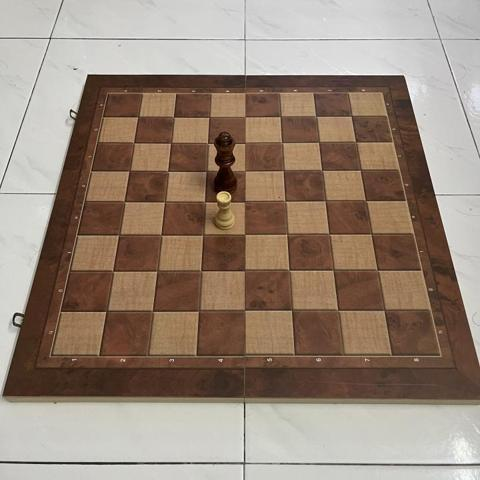xcorner: (314, 163, 331, 180), (344, 109, 361, 125), (309, 109, 325, 126), (201, 110, 218, 126), (312, 135, 328, 152), (274, 136, 291, 152), (277, 194, 294, 210), (197, 194, 213, 211), (156, 195, 173, 211), (237, 227, 253, 244), (191, 303, 207, 320), (98, 304, 115, 320), (273, 110, 289, 126), (237, 110, 253, 126), (166, 110, 182, 126), (130, 110, 146, 126), (349, 135, 365, 151), (237, 136, 253, 152), (200, 136, 216, 152), (163, 136, 179, 152), (126, 136, 142, 152), (353, 163, 369, 179), (276, 164, 292, 180), (237, 164, 253, 180), (199, 164, 215, 180), (160, 164, 176, 180), (121, 164, 137, 180), (358, 194, 374, 210), (318, 194, 334, 210), (237, 194, 253, 210), (116, 195, 132, 211), (363, 227, 379, 243), (321, 227, 337, 243), (279, 227, 295, 243), (195, 228, 211, 244), (153, 228, 169, 244), (111, 228, 127, 244), (369, 263, 385, 279), (325, 263, 341, 279), (281, 263, 297, 279), (237, 264, 253, 280), (193, 264, 209, 280), (149, 264, 165, 280), (105, 264, 121, 280), (375, 302, 391, 318), (329, 303, 345, 319), (283, 303, 299, 319), (237, 303, 253, 319), (145, 304, 161, 320)
